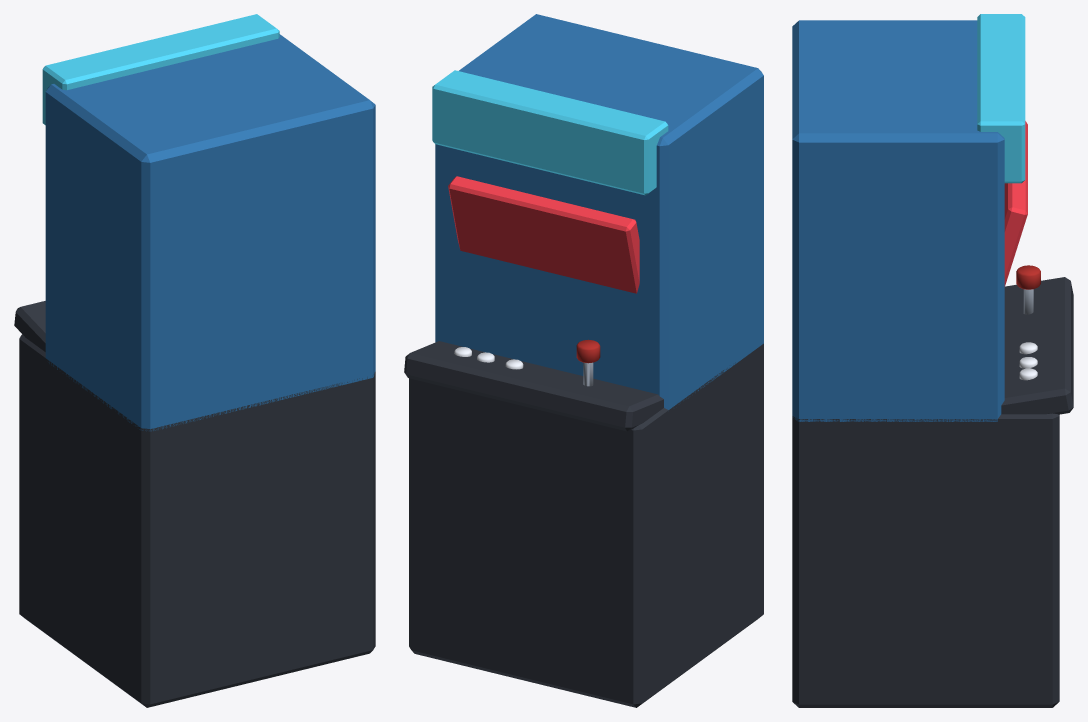
Rendered from arcade_cabinet.obj.
3 renders of one model, left to right at view 1: azimuth 30°, elevation 25°; view 2: azimuth 150°, elevation 25°; view 3: azimuth 270°, elevation 25°, orthographic. The views are drawn at different scales.
Visible parts, largest first — view 1: Upper, Lower, Marquee, Deck; view 2: Lower, Upper, Marquee, Screen, Deck; view 3: Upper, Lower, Deck, Marquee, Screen, StickBall.
Boxes of the visible parts, bbox=[...] form: Upper: bbox=[45, 34, 375, 431]; Lower: bbox=[19, 334, 375, 707]; Marquee: bbox=[42, 14, 279, 125]; Deck: bbox=[14, 301, 45, 351]; Lower: bbox=[409, 343, 763, 707]; Upper: bbox=[435, 14, 763, 409]; Marquee: bbox=[432, 70, 668, 195]; Screen: bbox=[448, 176, 639, 293]; Deck: bbox=[404, 341, 663, 431]; Upper: bbox=[792, 20, 1004, 421]; Lower: bbox=[792, 413, 1059, 707]; Deck: bbox=[1001, 277, 1073, 414]; Marquee: bbox=[977, 14, 1025, 183]; Screen: bbox=[1004, 121, 1027, 286]; StickBall: bbox=[1016, 265, 1040, 289].
Size of the model in its own units: 0.82 by 1.88 by 0.8218.
